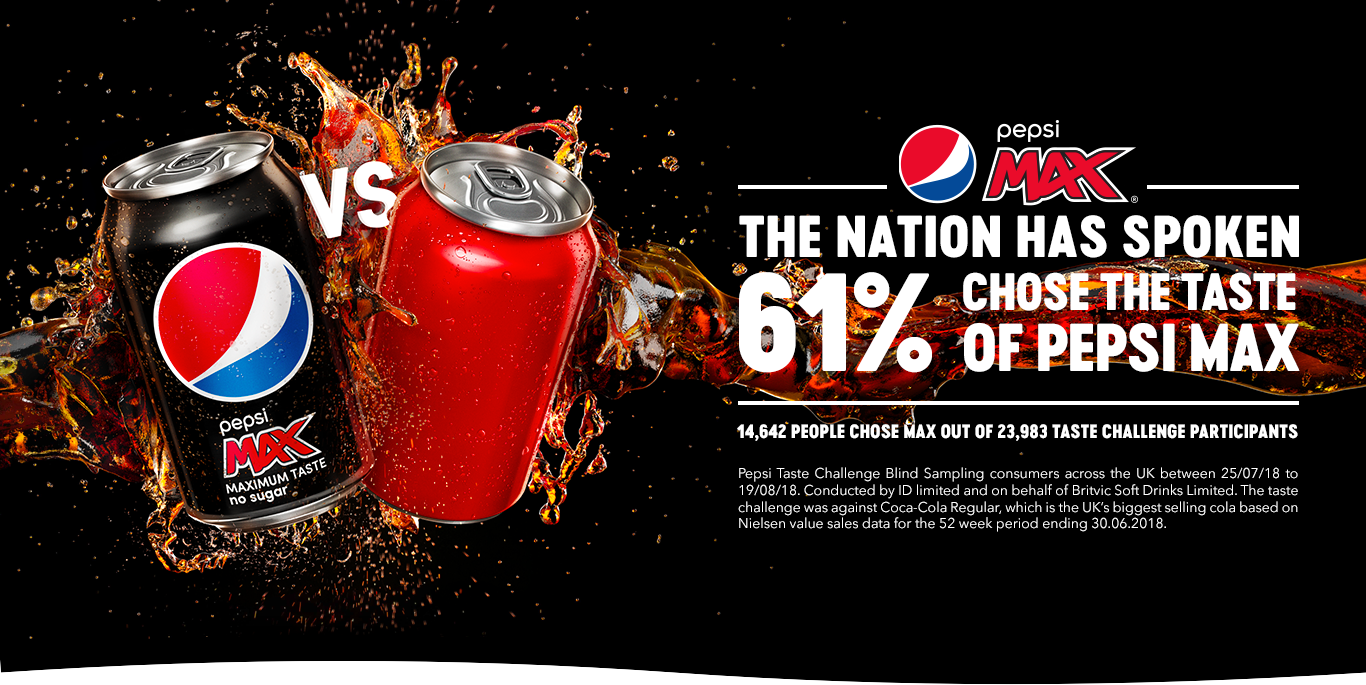pepsi: (145, 242, 313, 401), (145, 246, 313, 401), (145, 246, 309, 401), (894, 119, 976, 201), (894, 122, 976, 201), (897, 122, 976, 201)
